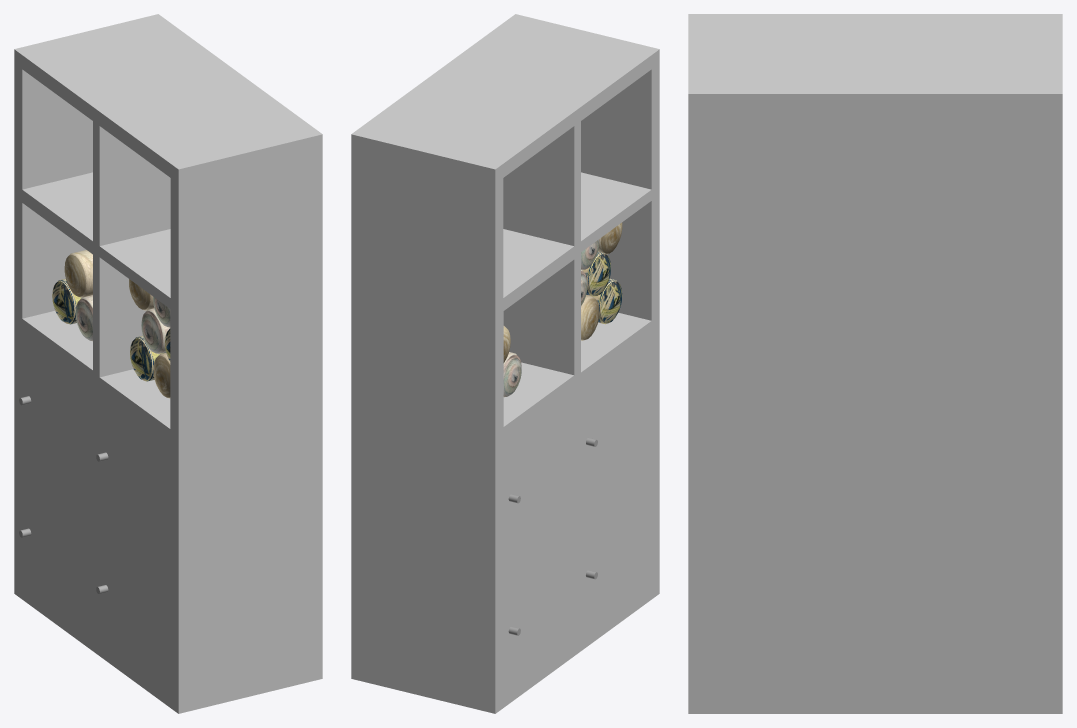
File: Bookshelf2.fbx
The picture shows the model from 3 angles, left to right: view 1: azimuth 30°, elevation 25°; view 2: azimuth 150°, elevation 25°; view 3: azimuth 270°, elevation 25°; orthographic projection. The views are drawn at different scales.
Visible parts, largest first — view 1: polySurface57, pCylinder32, pCylinder22, pCylinder30, pCylinder26, pCylinder23, pCylinder31; view 2: polySurface57, pCylinder25, pCylinder24, pCylinder23, pCylinder31; view 3: polySurface57.
Boxes of the visible parts, x1,y1,x2,y2 form: polySurface57: [14, 14, 322, 713]; pCylinder32: [64, 250, 92, 297]; pCylinder22: [130, 335, 165, 381]; pCylinder30: [52, 278, 80, 324]; pCylinder26: [141, 308, 169, 353]; pCylinder23: [153, 352, 170, 398]; pCylinder31: [75, 295, 92, 341]; polySurface57: [351, 14, 659, 713]; pCylinder25: [582, 251, 610, 296]; pCylinder24: [593, 278, 622, 324]; pCylinder23: [581, 295, 599, 340]; pCylinder31: [503, 352, 521, 397]; polySurface57: [688, 14, 1062, 713].
Size of the model in its own units: 1.66 by 5.64 by 3.09.
Materials: 5 (3 with a texture image).
